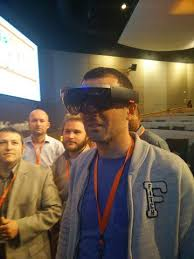hololens: (60, 83, 140, 116)
